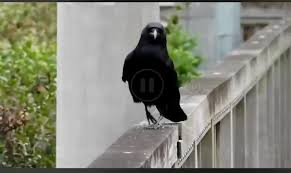Walking: (103, 14, 207, 134)
